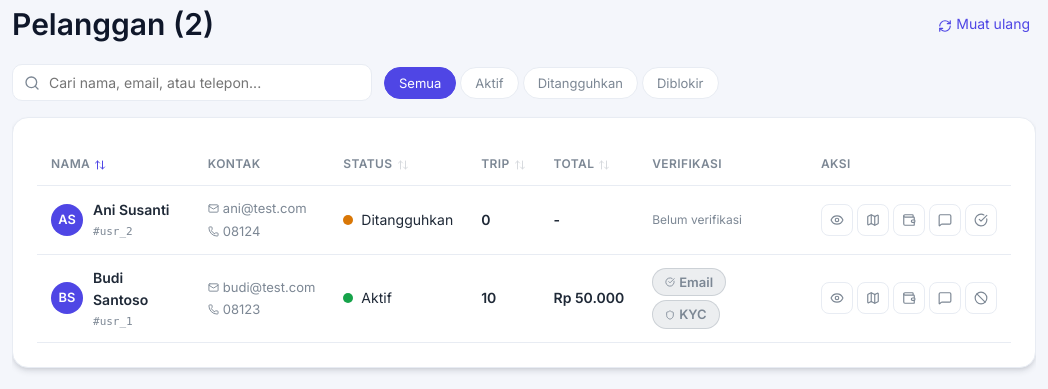
Customers › filters customers by status
Expected: the text "Budi Santoso" is shown, x1=93 y1=269 x2=148 y2=308
Click the button "Ditangguhkan" at (580, 82), box x1=523 y1=66 x2=638 y2=98
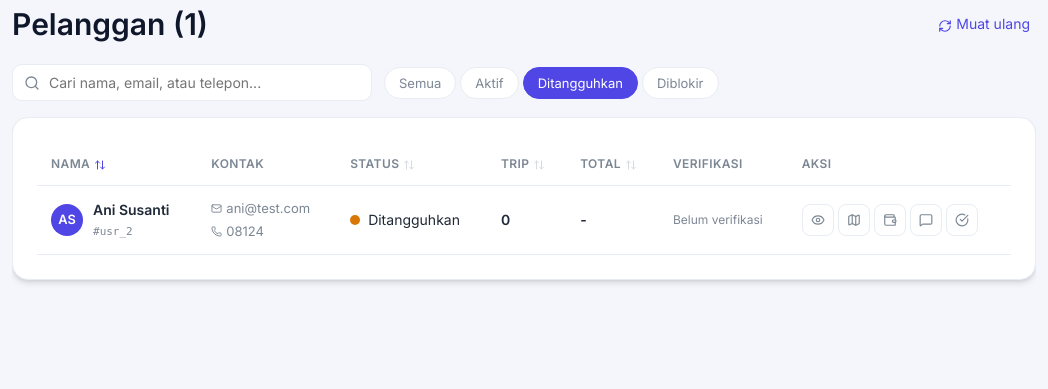
Expected: the text "Ani Susanti" is shown, x1=93 y1=200 x2=170 y2=222
Expected: the text "Budi Santoso" is gone
